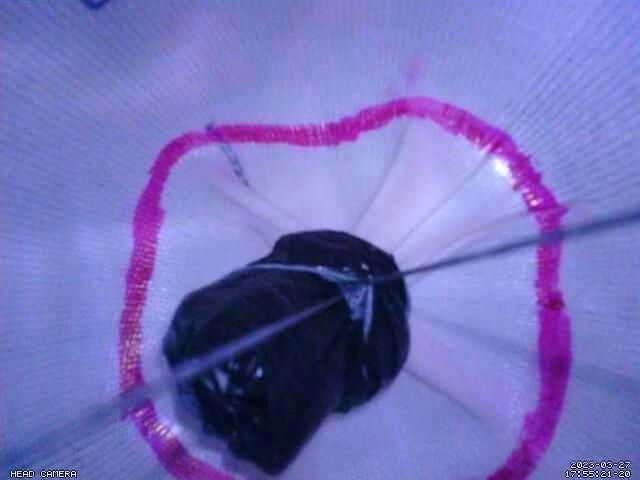red-circle: (116, 95, 575, 480)
